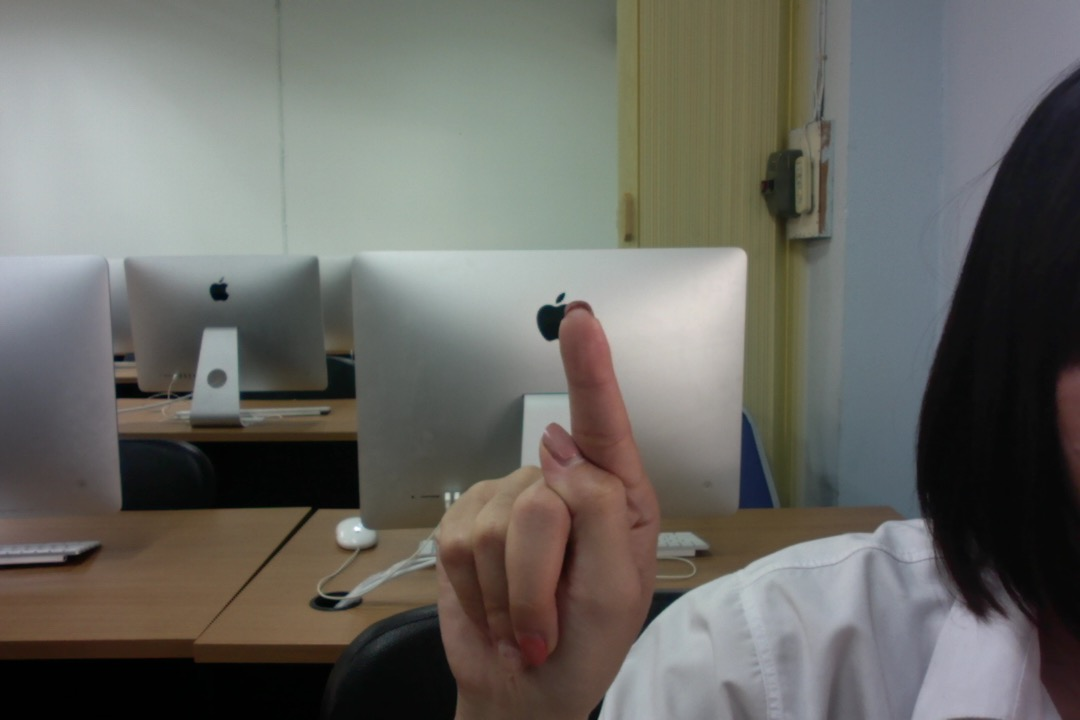tor: (425, 296, 670, 719)
